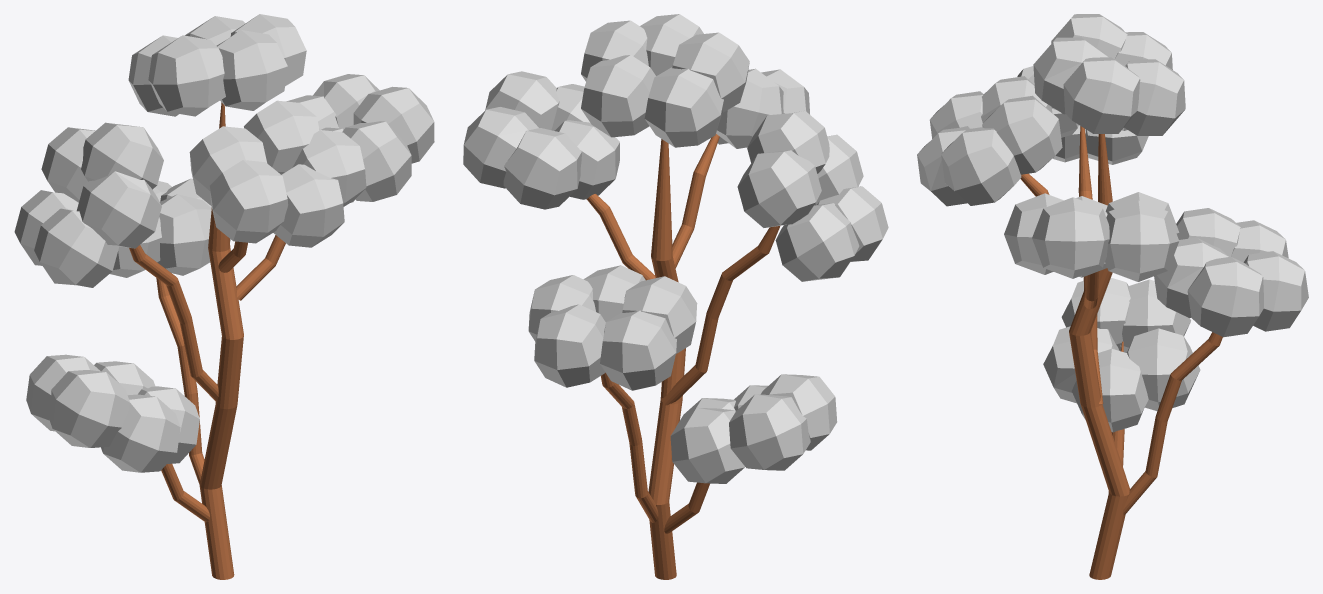
Rendered from coton1.fbx.
The picture shows the model from 3 angles, left to right: view 1: azimuth 30°, elevation 25°; view 2: azimuth 150°, elevation 25°; view 3: azimuth 270°, elevation 25°; orthographic projection.
Visible parts, largest first — view 1: Cylinder.002; view 2: Cylinder.002; view 3: Cylinder.002.
Boxes of the visible parts, bbox=[...] form: Cylinder.002: bbox=[14, 14, 434, 579]; Cylinder.002: bbox=[463, 14, 888, 579]; Cylinder.002: bbox=[917, 14, 1308, 579].
Size of the model in its own units: 305 by 408 by 269.
